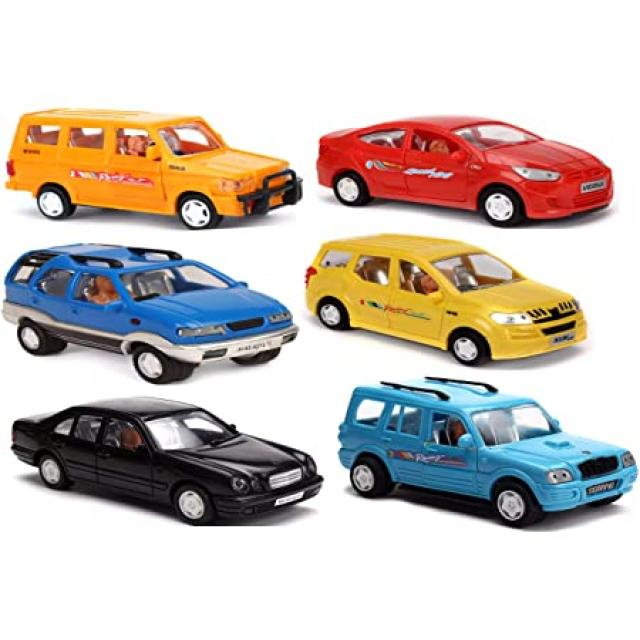Car: (336, 376, 638, 528), (0, 242, 299, 384), (10, 394, 324, 526), (303, 232, 587, 365), (4, 107, 303, 229), (314, 114, 614, 228)
